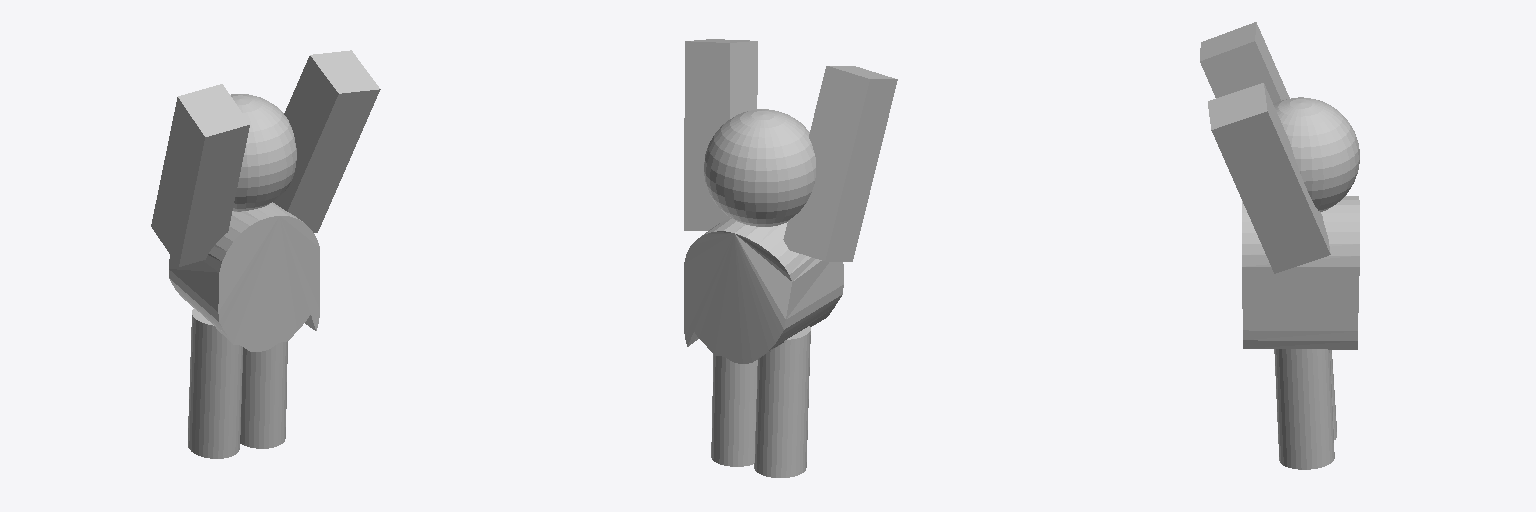
The model's file is Figurine167.obj.
The picture shows the model from 3 angles: view 1: azimuth 30°, elevation 25°; view 2: azimuth 150°, elevation 25°; view 3: azimuth 270°, elevation 25°; orthographic projection.
Parts seen in each view (by area): view 1: Cylinder; view 2: Cylinder; view 3: Cylinder.
Boxes of the visible parts, x1,y1,x2,y2 form: Cylinder: [151, 50, 380, 458]; Cylinder: [684, 39, 897, 477]; Cylinder: [1200, 22, 1359, 469].
Size of the model in its own units: 3.52 by 7.29 by 2.71.